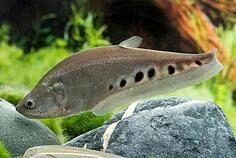Knifefish: (15, 35, 224, 122)
